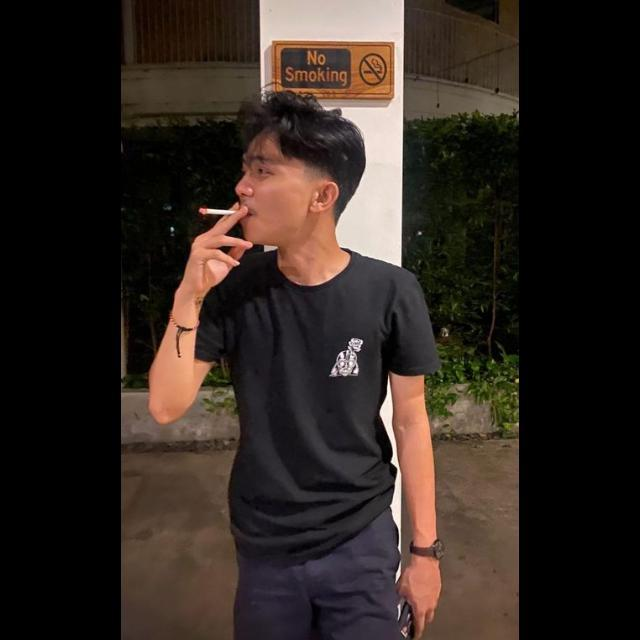rokok: (194, 201, 256, 225)
